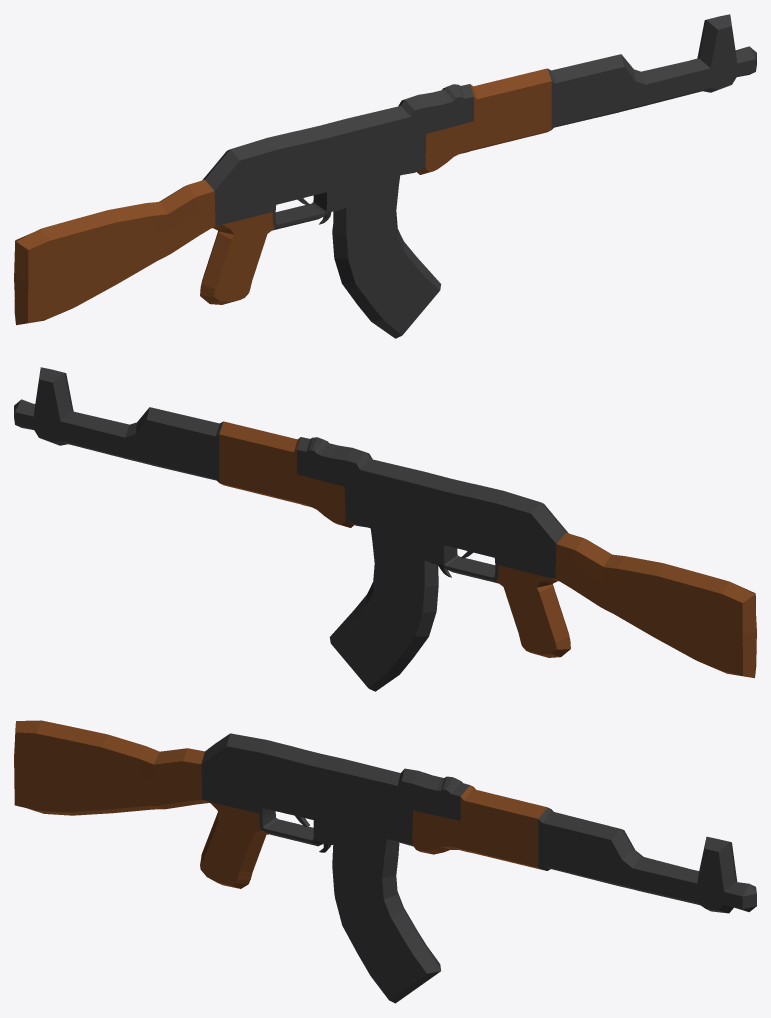
File: rifle.fbx
3 renders of one model, top to bottom at view 1: azimuth 30°, elevation 25°; view 2: azimuth 150°, elevation 25°; view 3: azimuth 330°, elevation 25°, orthographic.
Parts seen in each view (by area): view 1: Cube; view 2: Cube; view 3: Cube.
Boxes of the visible parts, bbox=[...] form: Cube: bbox=[14, 14, 756, 338]; Cube: bbox=[14, 367, 756, 691]; Cube: bbox=[14, 720, 756, 1003].
Bounding box in the file's own units: 15.66 × 498 × 156.
